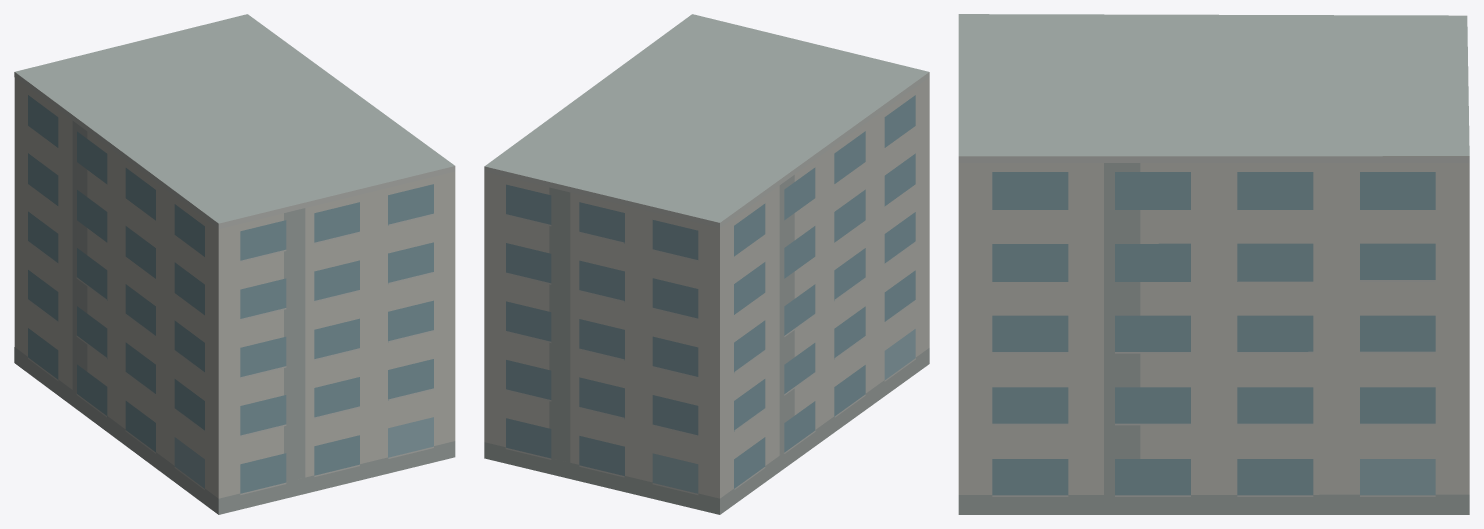
The model's file is survey-upis-32916553.glb.
3 renders of one model, left to right at view 1: azimuth 30°, elevation 25°; view 2: azimuth 150°, elevation 25°; view 3: azimuth 270°, elevation 25°, orthographic. The views are drawn at different scales.
Visible parts, largest first — view 1: survey-upis-32916553.tmp; view 2: survey-upis-32916553.tmp; view 3: survey-upis-32916553.tmp.
Part boxes in pixels (x1,y1,x2,y2): survey-upis-32916553.tmp: (14, 14, 455, 514); survey-upis-32916553.tmp: (484, 14, 929, 514); survey-upis-32916553.tmp: (958, 14, 1469, 514).
Size of the model in its own units: 11.07 by 13 by 16.81.
